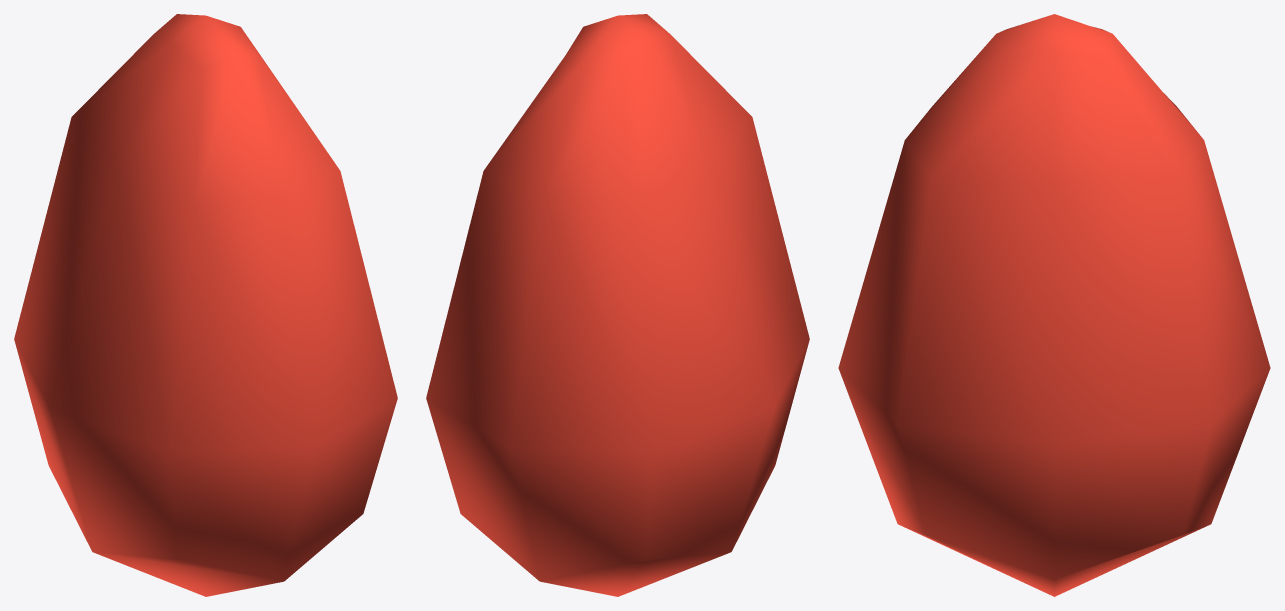
File: grenade-kernel.fbx
The picture shows the model from 3 angles, left to right: view 1: azimuth 30°, elevation 25°; view 2: azimuth 150°, elevation 25°; view 3: azimuth 270°, elevation 25°; orthographic projection.
Parts seen in each view (by area): view 1: Grenade-kernel; view 2: Grenade-kernel; view 3: Grenade-kernel.
Part boxes in pixels (bbox=[...]): Grenade-kernel: bbox=[14, 14, 397, 596]; Grenade-kernel: bbox=[426, 14, 809, 596]; Grenade-kernel: bbox=[838, 14, 1270, 596].
Bounding box in the file's own units: 48.32 × 85.77 × 57.62.
